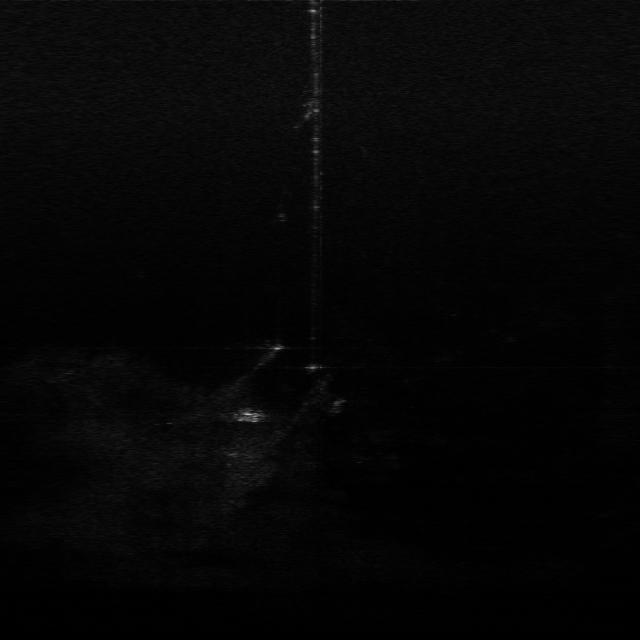rov: (233, 408, 264, 427)
